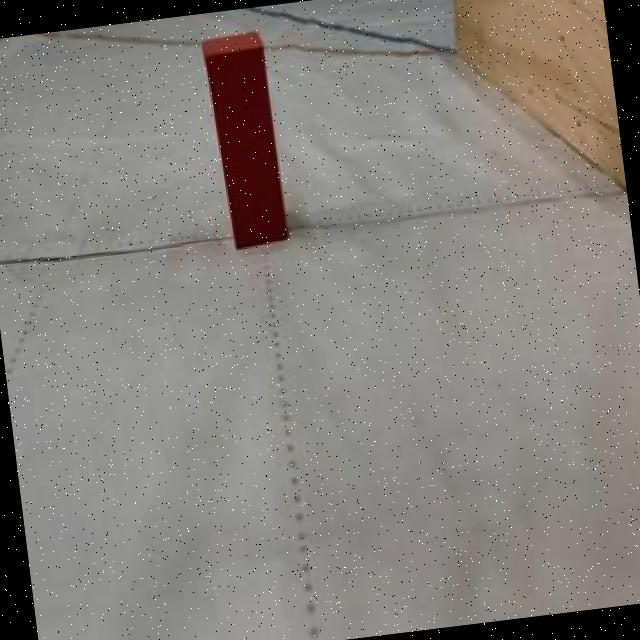redbox: (200, 28, 287, 248)
